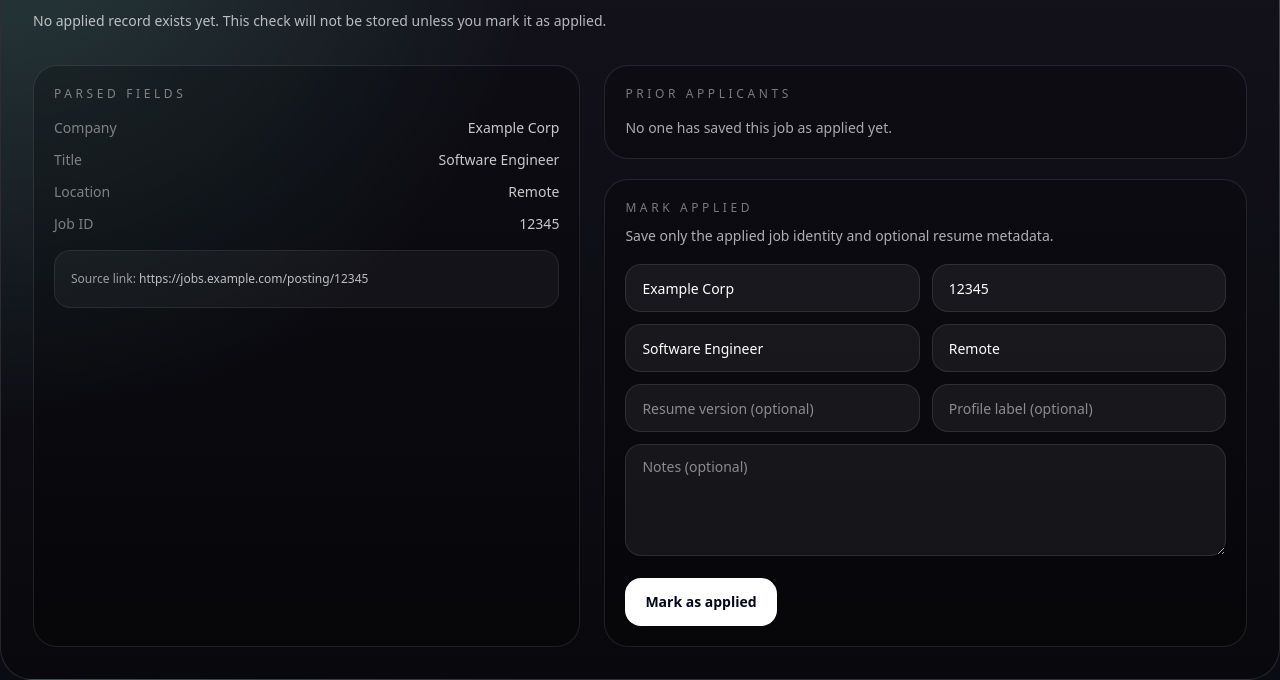
ExtensionJobChecker › mark-applied form submission › shows save error message on mark-applied API failure
(page scrolled)
Step 1. Click the button "Mark as applied" → (701, 602), box [625,578,777,626]
(page scrolled)
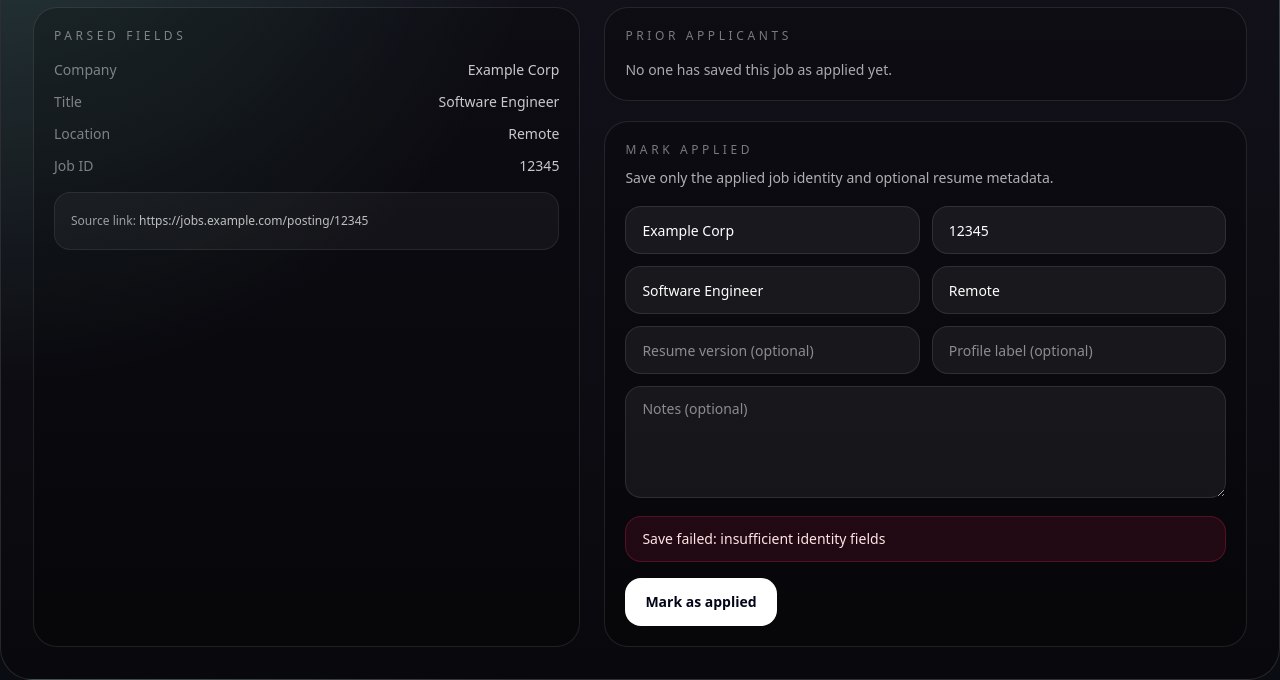
Result: the text "Save failed: insufficient identity fields" is shown at [625,516,1226,562]
